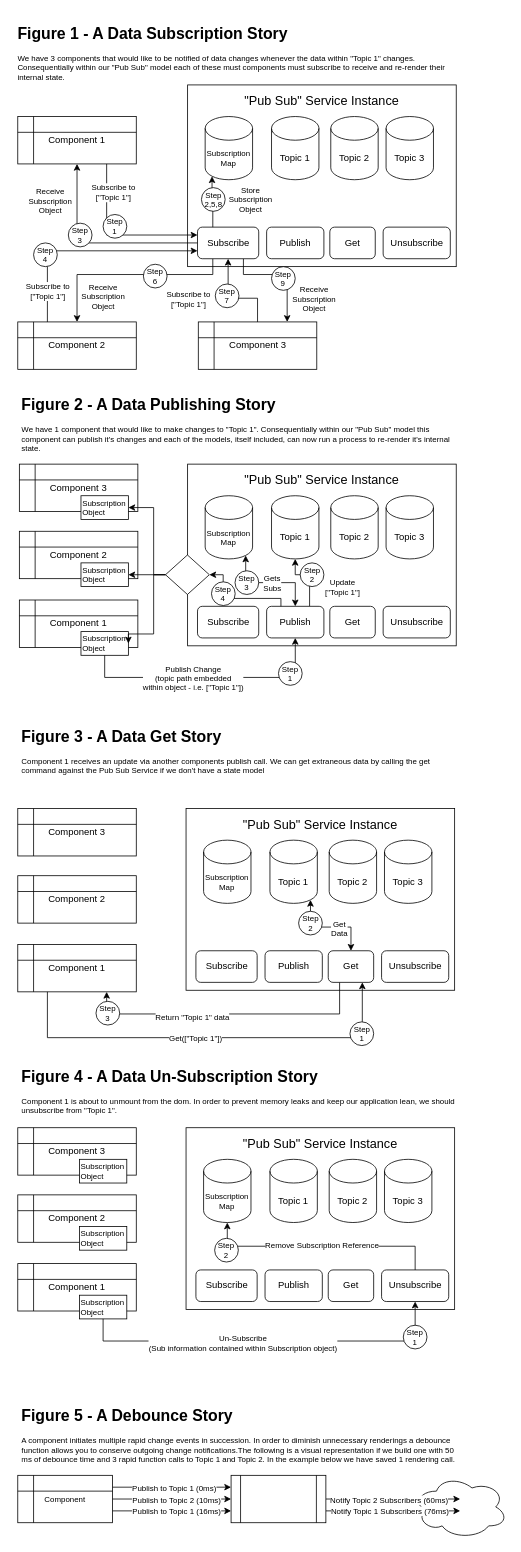
The diagram is 521 pixels wide and 1552 high, and some of its shapes have lost their labels. The shapes that lost their labels are listed below. From the top down, each one's centre as x and y in pixels, then its label:
At (187,574): "Notifies Via".
At (278,1499): "Notify Subscribers".
